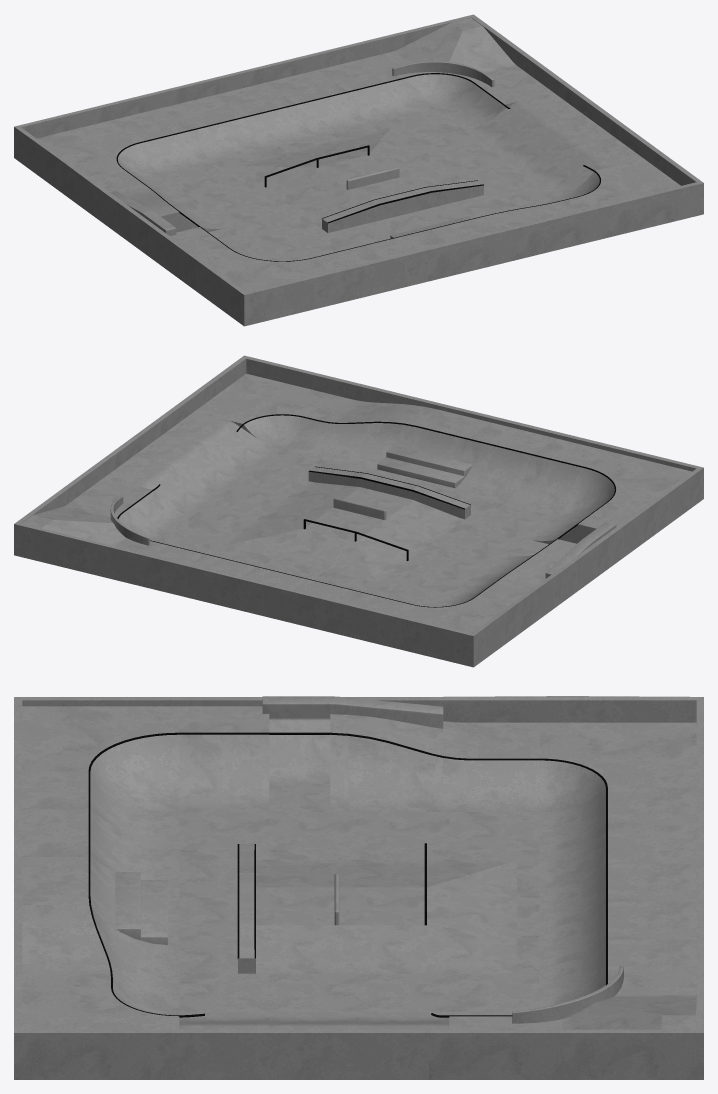
File: escadinha_do_grindzinho 1.fbx
The picture shows the model from 3 angles, top to bottom: view 1: azimuth 30°, elevation 25°; view 2: azimuth 150°, elevation 25°; view 3: azimuth 270°, elevation 25°; orthographic projection. The views are drawn at different scales.
Parts seen in each view (by area): view 1: bowl, wall, ground, savana, bowl.45, piramide_canto, savana_box, bowl_coping, bowl_gap, piramide_canto_rail, rail_central; view 2: bowl, wall, ground, savana, bowl.45, savana_box, Cube, piramide_canto, bowl_coping, bowl_gap, rail_central, piramide_canto_rail; view 3: bowl, wall, ground, savana, bowl_gap, bowl.45, piramide_canto, Cube, bowl_coping, savana_box, piramide_canto_rail.
Part boxes in pixels (box(x1,y1,x2,y2)): bowl: box(37, 51, 680, 291); wall: box(14, 14, 703, 326); ground: box(162, 108, 554, 261); savana: box(235, 127, 465, 228); bowl.45: box(466, 93, 643, 196); piramide_canto: box(393, 18, 516, 72); savana_box: box(322, 180, 483, 232); bowl_coping: box(116, 73, 600, 261); bowl_gap: box(110, 191, 251, 243); piramide_canto_rail: box(392, 61, 494, 87); rail_central: box(346, 167, 399, 189); bowl: box(66, 373, 691, 633); wall: box(14, 355, 703, 667); ground: box(162, 450, 554, 604); savana: box(222, 481, 464, 582); bowl.45: box(104, 412, 281, 515); savana_box: box(308, 467, 470, 519); Cube: box(377, 445, 472, 488); piramide_canto: box(22, 505, 125, 545); bowl_coping: box(117, 414, 616, 607); bowl_gap: box(505, 522, 616, 578); rail_central: box(333, 497, 386, 519); piramide_canto_rail: box(110, 495, 149, 545); bowl: box(22, 706, 696, 1029); wall: box(14, 696, 703, 1079); ground: box(179, 812, 539, 1011); savana: box(256, 859, 516, 973); bowl_gap: box(262, 696, 443, 811); bowl.45: box(179, 1011, 449, 1029); piramide_canto: box(561, 995, 696, 1029); Cube: box(115, 872, 167, 944); bowl_coping: box(88, 732, 607, 1017); savana_box: box(238, 844, 255, 973); piramide_canto_rail: box(512, 965, 623, 1023).
Bounding box in the file's own units: 3533 × 260 × 3065.
